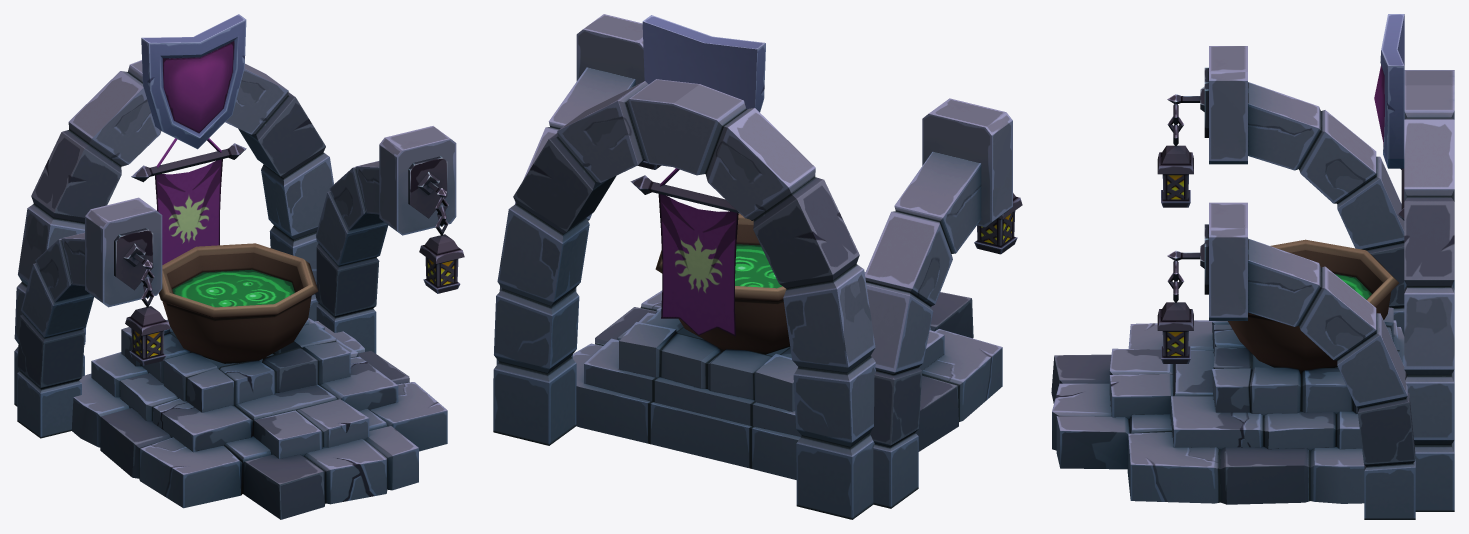
The model's file is building_08.FBX.
3 renders of one model, left to right at view 1: azimuth 30°, elevation 25°; view 2: azimuth 150°, elevation 25°; view 3: azimuth 270°, elevation 25°, orthographic. The views are drawn at different scales.
Visible parts, largest first — view 1: Box004; view 2: Box004; view 3: Box004.
Part boxes in pixels (x1,y1,x2,y2): Box004: (14,14,464,519); Box004: (493,14,1022,519); Box004: (1051,14,1454,519).
Size of the model in its own units: 565 by 547 by 512.
